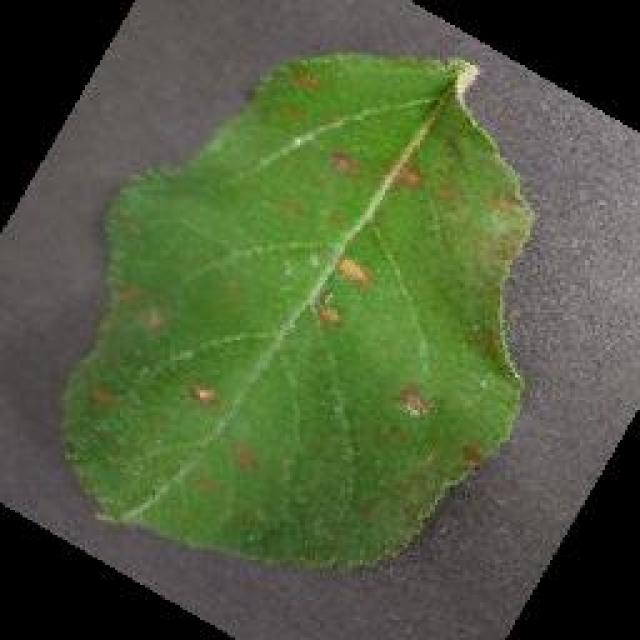Apple___Cedar_apple_rust: (60, 50, 541, 575)
